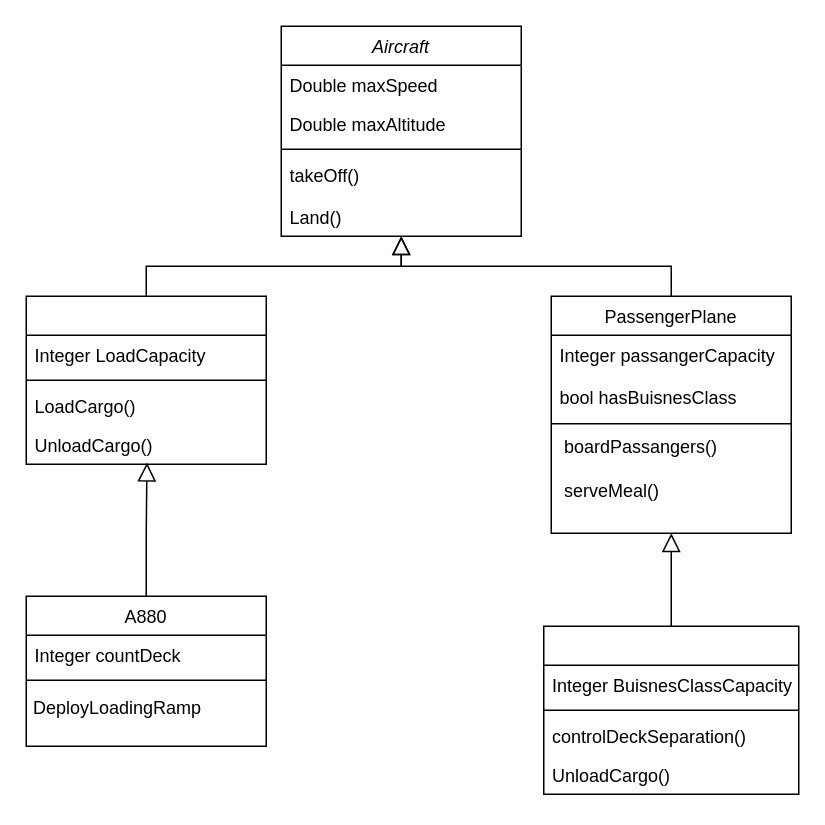
Some shapes in this 825 by 825 pixel diagram are drawn without their labels. Each missing label, with the box of its shape:
Boeing 777: (542, 625, 799, 794)
CargoPlane: (25, 295, 266, 464)
